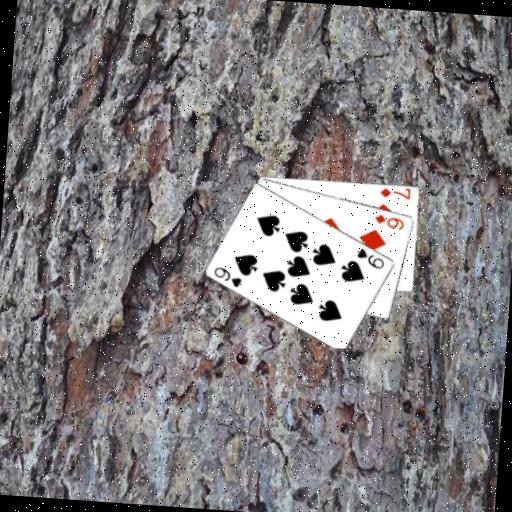6D: (372, 211, 407, 232)
7D: (377, 185, 413, 201)
9S: (353, 245, 387, 271), (211, 263, 245, 289)
